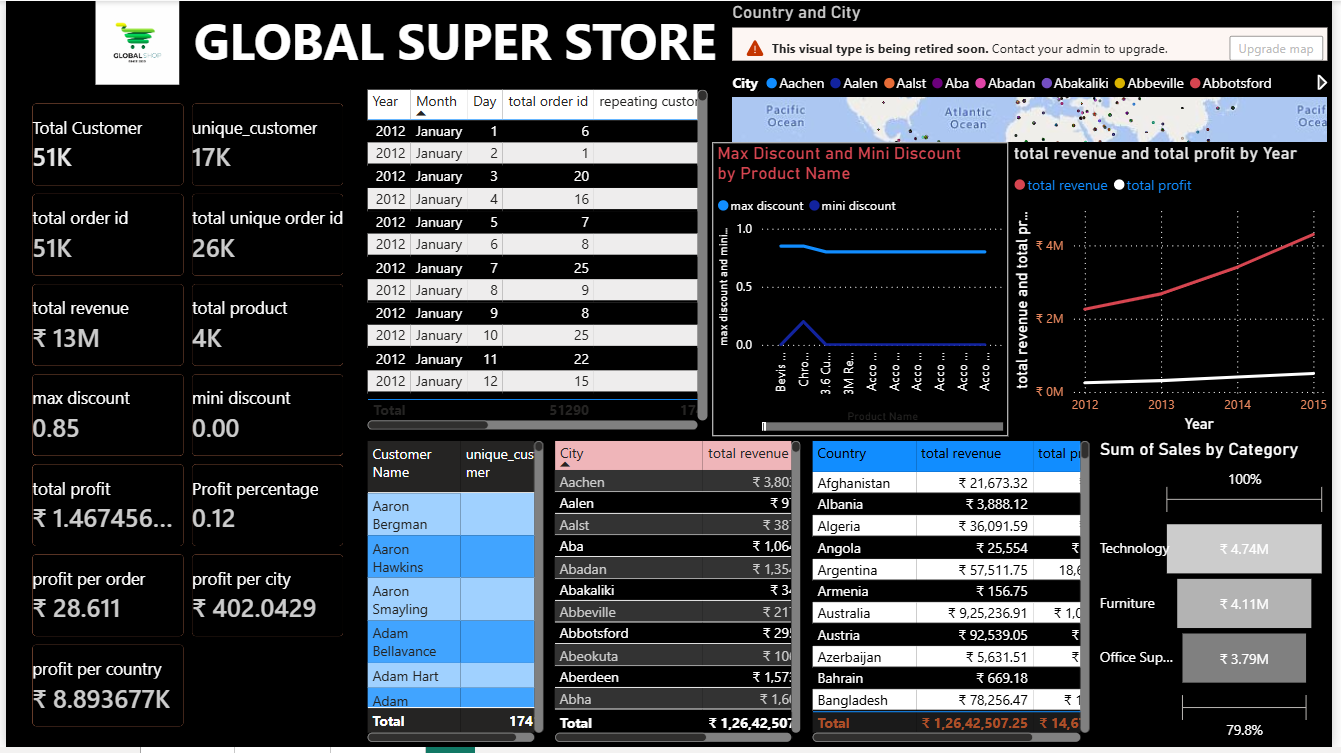

What the dashboard file says about the page in this screenshot:
{"tool":"powerbi","page":{"name":"Page 1","canvas":[1280,720],"ordinal":0},"visuals":[{"type":"textbox","box":[0,0,737.1,80.8],"z":0},{"type":"image","box":[0,0,253.4,80.8],"z":1000},{"type":"cardVisual","fields":{"Data":["Copy of global_superstore xlsx - Orders.total_customer","Copy of global_superstore xlsx - Orders.unique_customer","Copy of global_superstore xlsx - Orders.total order id","Copy of global_superstore xlsx - Orders.total unique order id","Copy of global_superstore xlsx - Orders.total revenue","Copy of global_superstore xlsx - Orders.total product","Copy of global_superstore xlsx - Orders.max discount","Copy of global_superstore xlsx - Orders.mini discount","Copy of global_superstore xlsx - Orders.total profit","Copy of global_superstore xlsx - Orders.Profit percentage","Copy of global_superstore xlsx - Orders.profit per order","Copy of global_superstore xlsx - Orders.profit per city"]},"box":[8.4,82,334.2,638.2],"z":2000},{"type":"tableEx","fields":{"Values":["Copy of global_superstore xlsx - Orders.Order Date.Variation.Date Hierarchy.Year","Copy of global_superstore xlsx - Orders.Order Date.Variation.Date Hierarchy.Month","Copy of global_superstore xlsx - Orders.Order Date.Variation.Date Hierarchy.Day","Copy of global_superstore xlsx - Orders.total order id","Copy of global_superstore xlsx - Orders.repeating customer","Copy of global_superstore xlsx - Orders.total revenue","Copy of global_superstore xlsx - Orders.revenue per city","Copy of global_superstore xlsx - Orders.revenue per country","Copy of global_superstore xlsx - Orders.max discount","Copy of global_superstore xlsx - Orders.mini discount"]},"box":[342.6,80.8,339,337.8],"z":3000},{"type":"lineChart","fields":{"Category":["Copy of global_superstore xlsx - Orders.Order Date.Variation.Date Hierarchy.Year","Copy of global_superstore xlsx - Orders.Order Date.Variation.Date Hierarchy.Quarter","Copy of global_superstore xlsx - Orders.Order Date.Variation.Date Hierarchy.Month","Copy of global_superstore xlsx - Orders.Order Date.Variation.Date Hierarchy.Day"],"Y":["Copy of global_superstore xlsx - Orders.total revenue","Copy of global_superstore xlsx - Orders.total profit"]},"box":[967.6,136.3,312.5,284.7],"z":4000},{"type":"funnel","fields":{"Category":["Copy of global_superstore xlsx - Orders.Category"],"Y":["Sum(Copy of global_superstore xlsx - Orders.Sales)"]},"box":[1050.8,422.3,229.2,298],"z":5000},{"type":"lineChart","title":"Max Discount and Mini Discount by Product Name","fields":{"Category":["Copy of global_superstore xlsx - Orders.Product Name"],"Y":["Copy of global_superstore xlsx - Orders.max discount","Copy of global_superstore xlsx - Orders.mini discount"]},"box":[681.6,136.3,285.9,283.5],"z":6000},{"type":"tableEx","fields":{"Values":["Copy of global_superstore xlsx - Orders.City","Copy of global_superstore xlsx - Orders.total revenue","Copy of global_superstore xlsx - Orders.total profit"]},"box":[523.6,419.8,248.5,300.4],"z":7000},{"type":"tableEx","fields":{"Values":["Copy of global_superstore xlsx - Orders.Country","Copy of global_superstore xlsx - Orders.total revenue","Copy of global_superstore xlsx - Orders.total profit"]},"box":[772.1,419.8,278.7,300.4],"z":8000},{"type":"tableEx","fields":{"Values":["Copy of global_superstore xlsx - Orders.Customer Name","Copy of global_superstore xlsx - Orders.unique_customer"]},"box":[342.6,419.8,181,300.4],"z":9000},{"type":"map","fields":{"Category":["Copy of global_superstore xlsx - Orders.Country"],"Series":["Copy of global_superstore xlsx - Orders.City"]},"box":[696.1,0,583.9,136.3],"z":10000}]}

Visuals, with their boxes in screenshot pixels (x1, y1, x2, y2), scaled from the page's 1280x720 canvas onto the 1341x753 screenshot:
textbox: l=0, t=0, r=772, b=85
image: l=0, t=0, r=265, b=85
cardVisual - Copy of global_superstore xlsx - Orders.total_customer x Copy of global_superstore xlsx - Orders.unique_customer: l=9, t=86, r=359, b=752
tableEx - Copy of global_superstore xlsx - Orders.Order Date.Variation.Date Hierarchy.Year x Copy of global_superstore xlsx - Orders.Order Date.Variation.Date Hierarchy.Month: l=359, t=85, r=714, b=438
lineChart - Copy of global_superstore xlsx - Orders.Order Date.Variation.Date Hierarchy.Year x Copy of global_superstore xlsx - Orders.Order Date.Variation.Date Hierarchy.Quarter: l=1014, t=143, r=1340, b=440
funnel - Copy of global_superstore xlsx - Orders.Category x Sum(Copy of global_superstore xlsx - Orders.Sales): l=1101, t=442, r=1340, b=752
"Max Discount and Mini Discount by Product Name" lineChart: l=714, t=143, r=1014, b=439
tableEx - Copy of global_superstore xlsx - Orders.City x Copy of global_superstore xlsx - Orders.total revenue: l=549, t=439, r=809, b=752
tableEx - Copy of global_superstore xlsx - Orders.Country x Copy of global_superstore xlsx - Orders.total revenue: l=809, t=439, r=1101, b=752
tableEx - Copy of global_superstore xlsx - Orders.Customer Name x Copy of global_superstore xlsx - Orders.unique_customer: l=359, t=439, r=549, b=752
map - Copy of global_superstore xlsx - Orders.Country x Copy of global_superstore xlsx - Orders.City: l=729, t=0, r=1340, b=143
